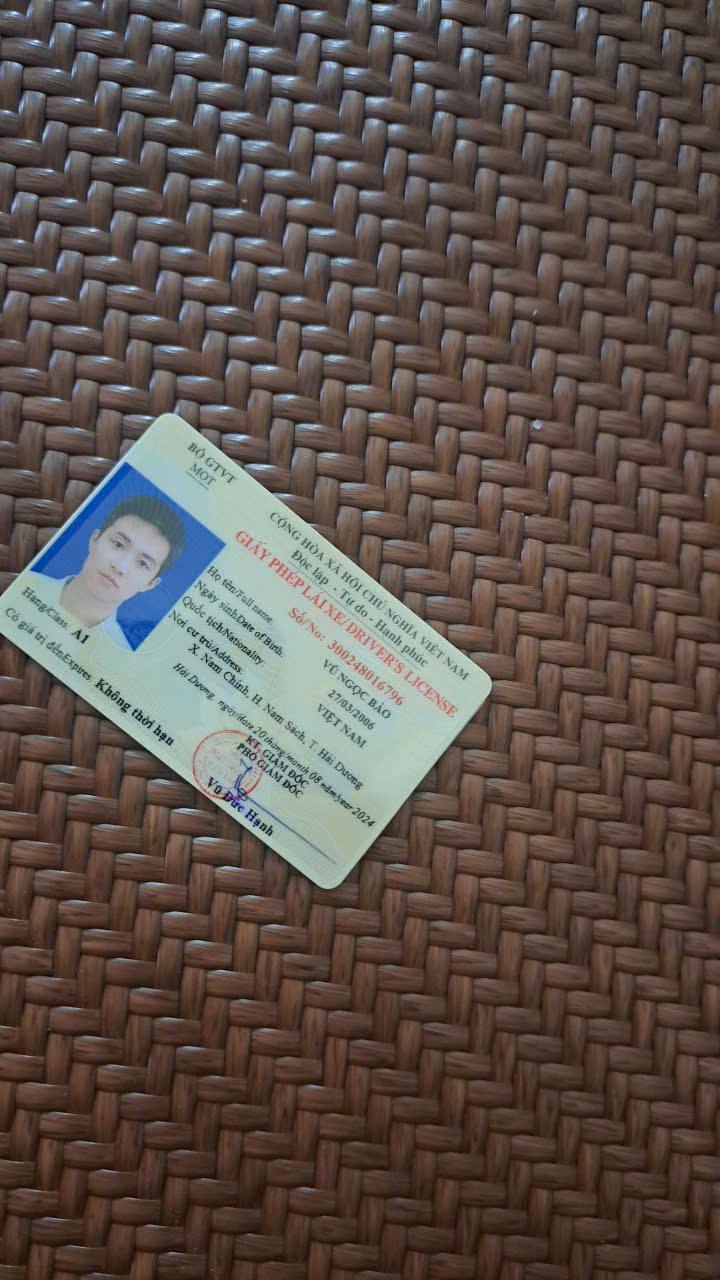gplx: (0, 395, 500, 901)
